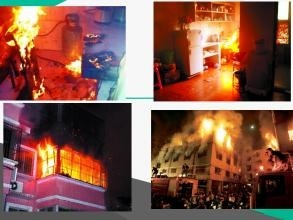fire: (183, 13, 241, 68), (1, 6, 49, 57), (34, 138, 83, 179), (192, 112, 236, 149), (66, 48, 84, 73), (276, 19, 289, 44), (263, 129, 278, 150)
